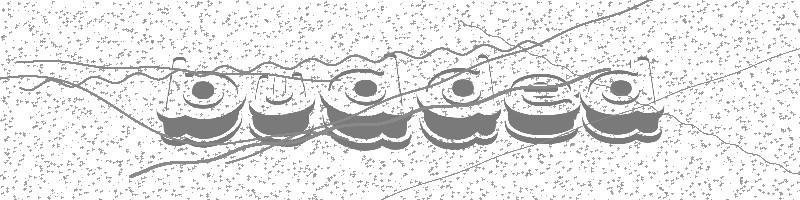b: (155, 56, 244, 149)
d: (318, 52, 414, 154), (415, 53, 503, 153), (580, 56, 667, 151)
e: (503, 73, 581, 148)
u: (247, 68, 317, 148)
